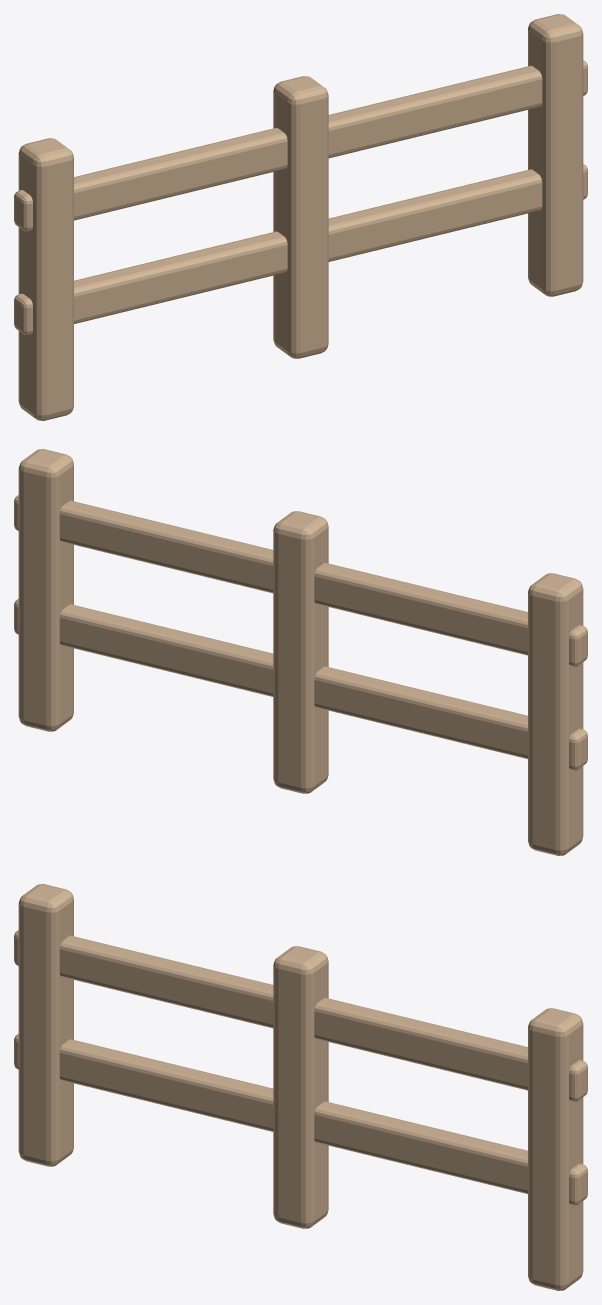
Rendered from fence.glb.
3 renders of one model, top to bottom at view 1: azimuth 30°, elevation 25°; view 2: azimuth 150°, elevation 25°; view 3: azimuth 330°, elevation 25°, orthographic.
Parts seen in each view (by area): view 1: fence; view 2: fence; view 3: fence.
Part boxes in pixels (<box>): fence: <box>14,14,587,420</box>; fence: <box>14,449,587,855</box>; fence: <box>14,884,587,1290</box>.
Size of the model in its own units: 2 by 0.9 by 0.14.
